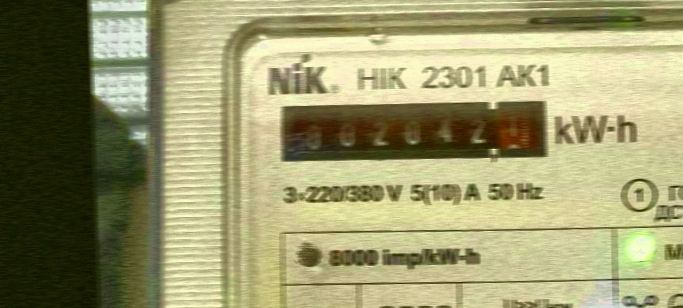0: (304, 120, 323, 151), (403, 116, 422, 146), (338, 118, 356, 149)
1: (505, 107, 520, 139)
2: (371, 118, 390, 147), (469, 115, 487, 144)
4: (436, 113, 455, 145)
screen: (276, 92, 552, 173)
